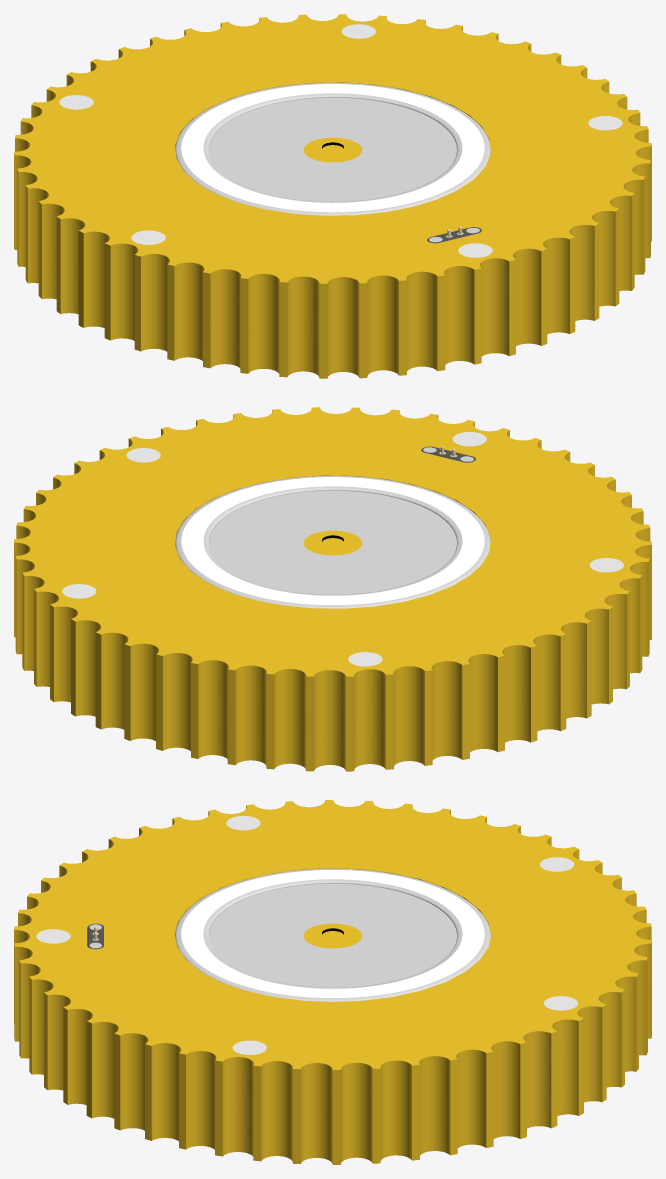
3 renders of one model, top to bottom at view 1: azimuth 30°, elevation 25°; view 2: azimuth 150°, elevation 25°; view 3: azimuth 270°, elevation 25°, orthographic.
Visible parts, largest first — view 1: Body333.006, Circle.018, Body334.006; view 2: Body333.006, Circle.018, Body334.006; view 3: Body333.006, Circle.018, Body334.006.
Boxes of the visible parts, <box> form: Body333.006: <box>14,14,651,336</box>; Circle.018: <box>175,82,490,215</box>; Body334.006: <box>14,137,651,378</box>; Body333.006: <box>14,407,651,728</box>; Circle.018: <box>175,475,490,608</box>; Body334.006: <box>14,530,651,771</box>; Body333.006: <box>14,800,651,1122</box>; Circle.018: <box>175,868,490,1001</box>; Body334.006: <box>14,923,651,1164</box>.
Size of the model in its own units: 0.1524 by 0.027 by 0.1523.
